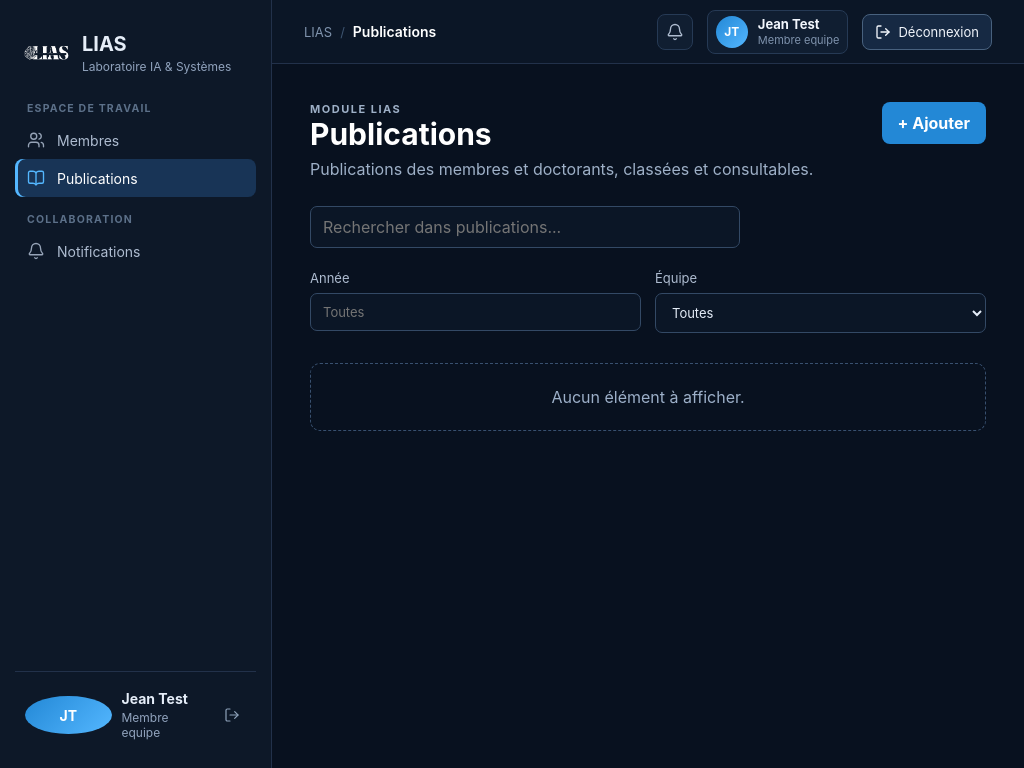
Test: Navigation et session › affiche notifications et déconnexion pour un doctorant
Click the button "Notifications" at (136, 251), box x1=15 y1=232 x2=256 y2=270
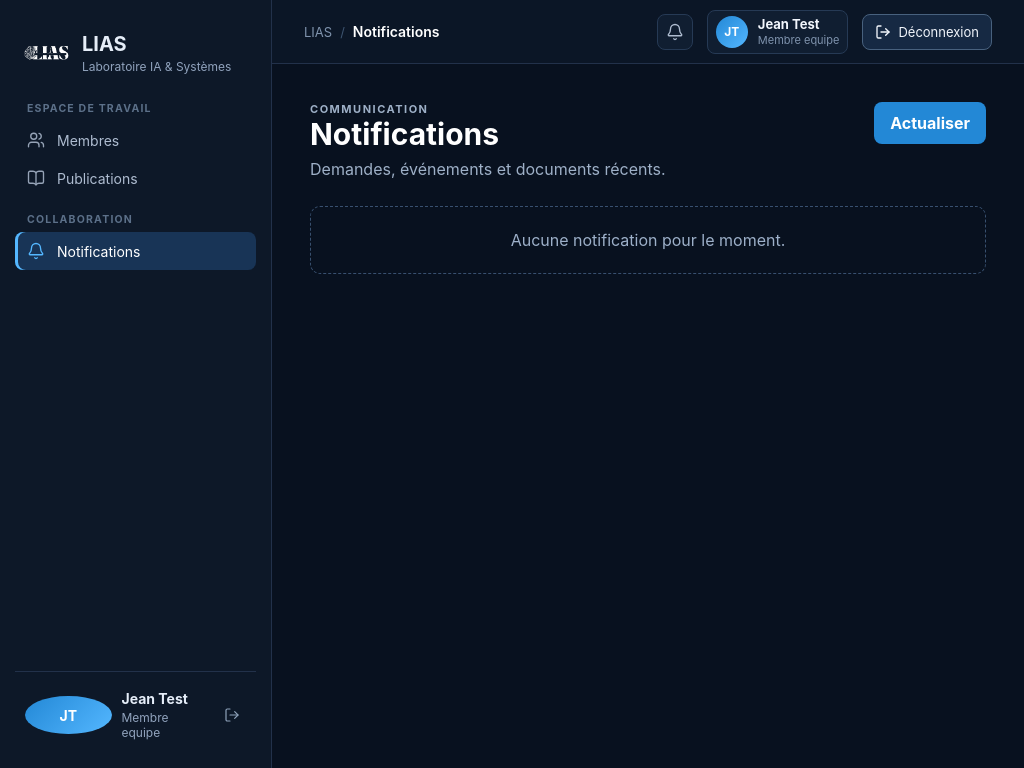
Expected: the button "Déconnexion" is shown, x1=862 y1=14 x2=992 y2=50
Now the text "Aucune notification pour le moment." is shown, box x1=310 y1=206 x2=986 y2=274
